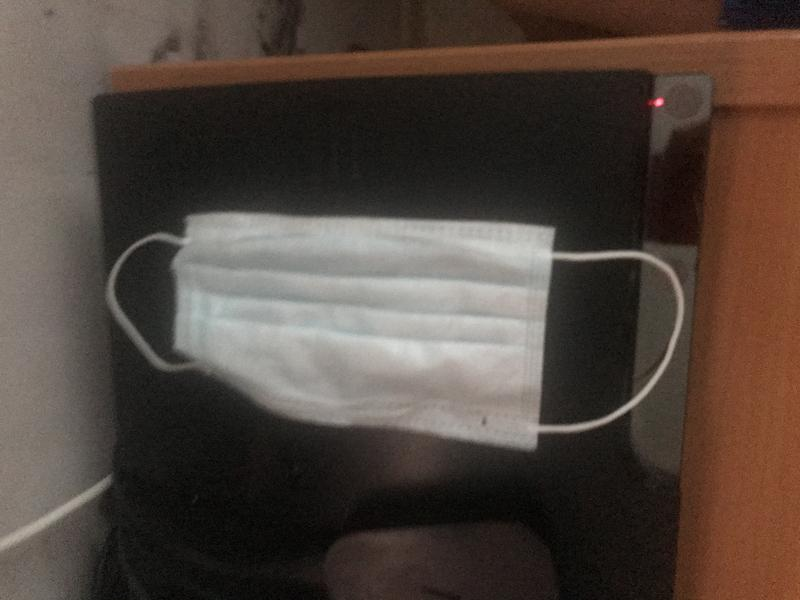medical_mask: (107, 214, 684, 452)
